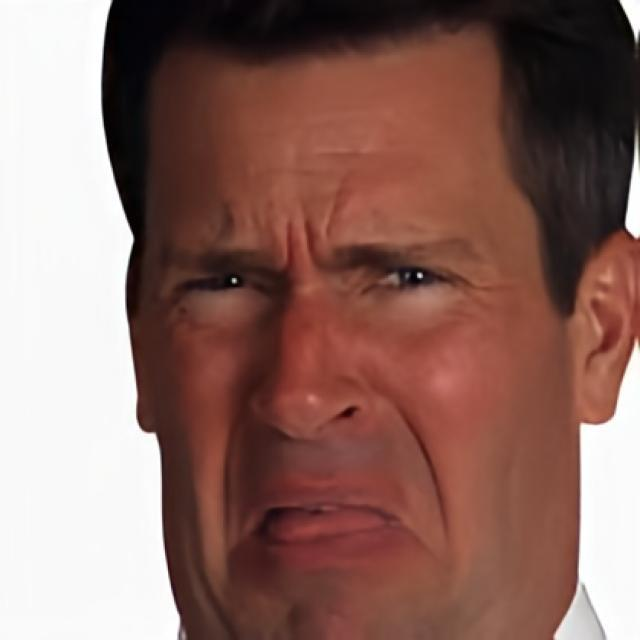disgust: (141, 5, 581, 640)
